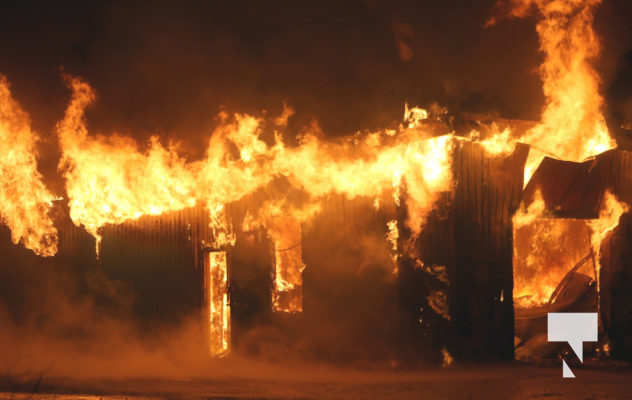fire: (67, 115, 461, 222), (529, 3, 611, 160), (514, 207, 607, 304), (6, 89, 52, 257), (203, 225, 236, 355), (266, 220, 305, 317)
smoke: (73, 1, 504, 100), (11, 268, 194, 389), (313, 231, 401, 381)
